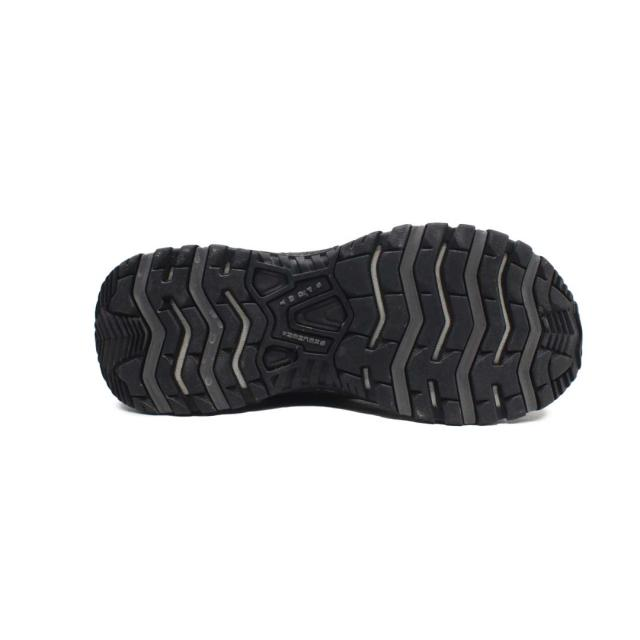outersole: (94, 222, 584, 428)
